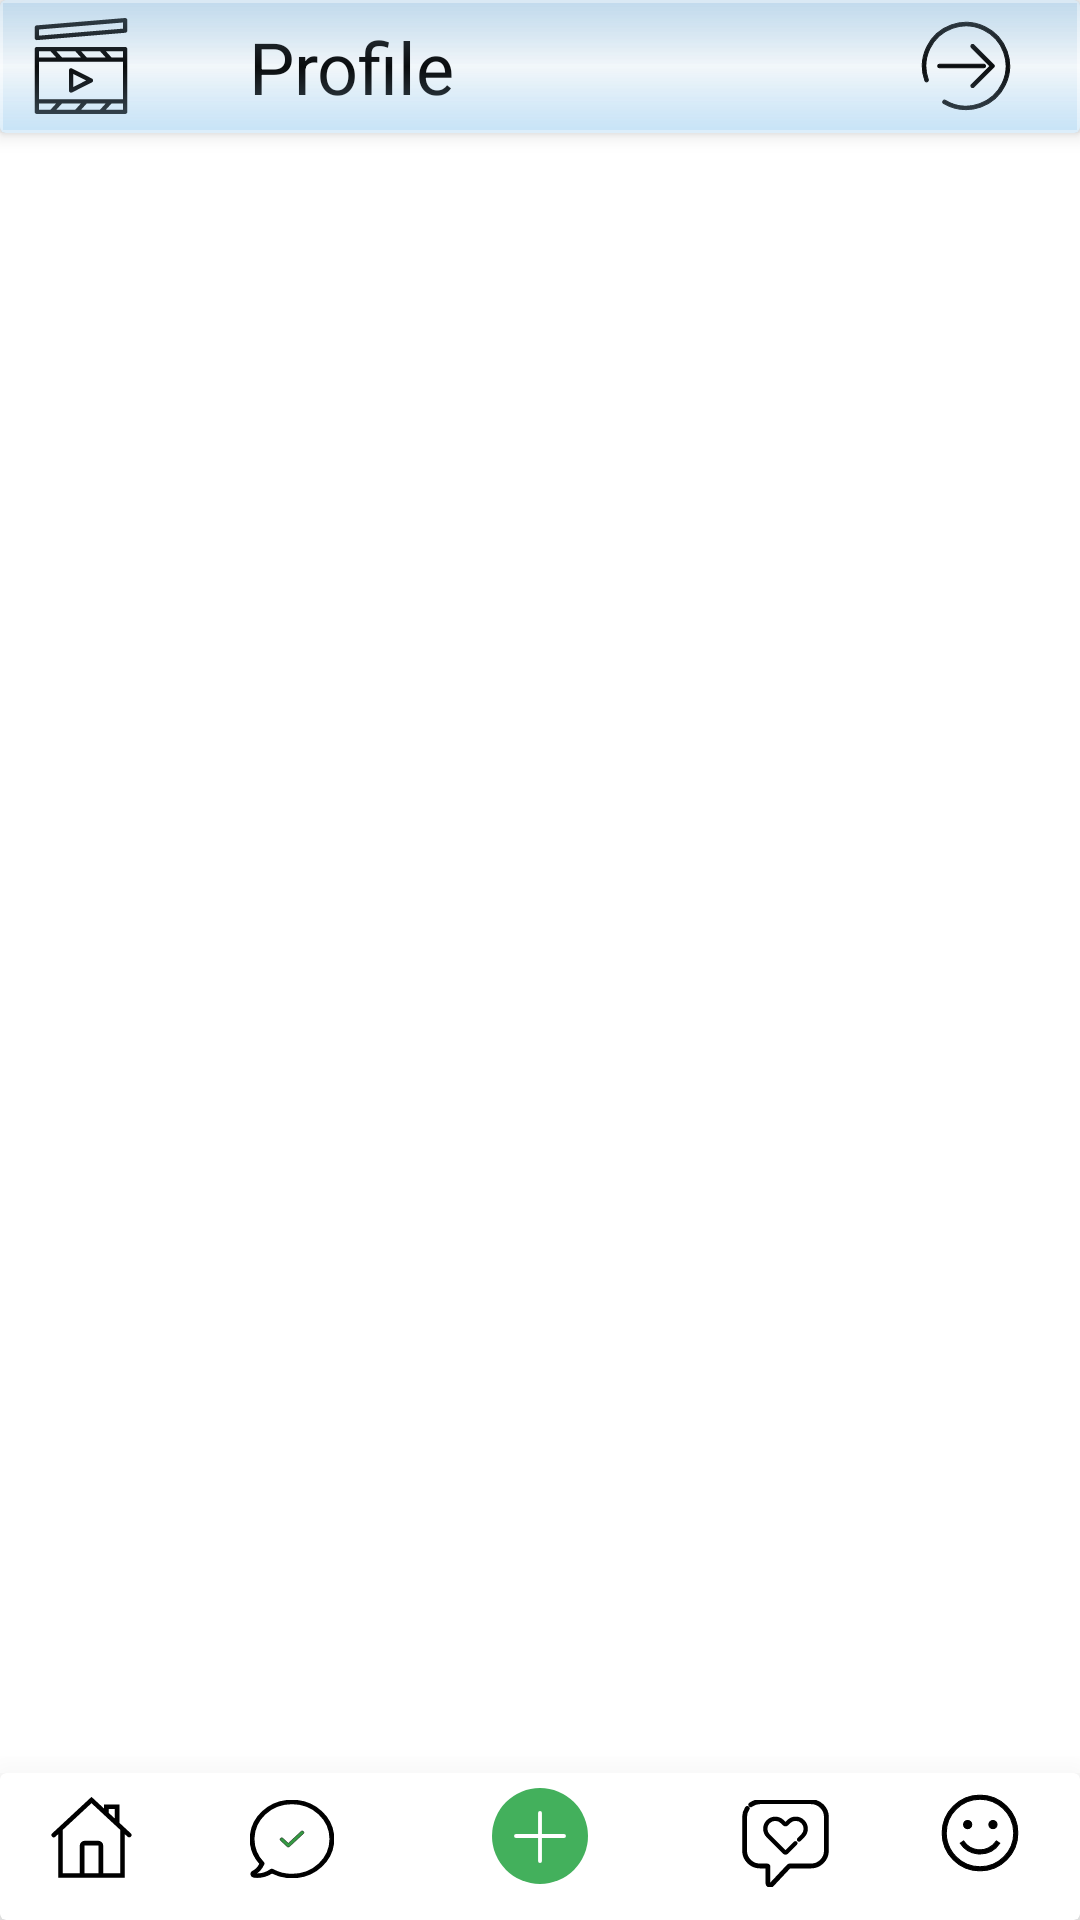

Locate icon controls on the screen. Image size 1080w x 1920h, boxes as (x1, y1, x2, y2).
chat: (250, 1800, 334, 1878)
clapperboard: (3, 18, 129, 114)
home: (51, 1797, 132, 1878)
next page: (921, 21, 1077, 110)
plus: (492, 1788, 588, 1884)
